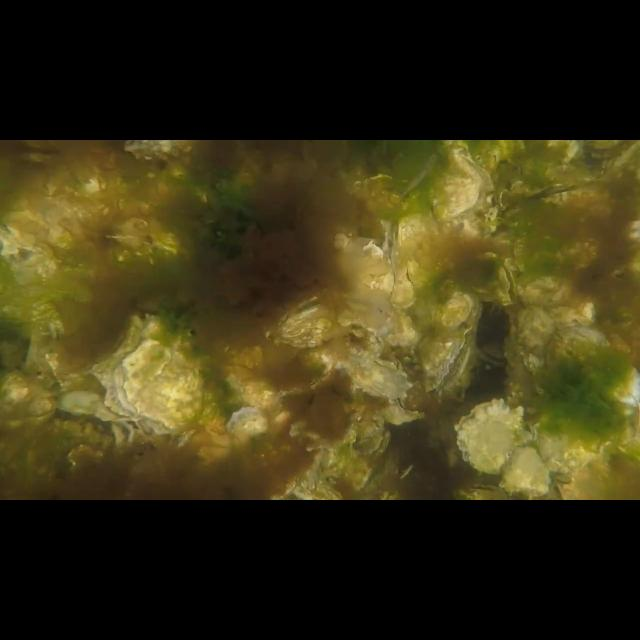Oyster-Closed: (545, 325, 640, 406), (528, 414, 610, 481), (430, 140, 492, 220), (514, 304, 562, 396), (400, 211, 450, 289), (0, 369, 58, 431), (339, 351, 413, 399), (498, 443, 552, 499), (389, 238, 417, 308), (56, 389, 114, 421)
Oyster-Open: (114, 339, 206, 435), (454, 398, 528, 474), (268, 294, 352, 344), (420, 322, 474, 392), (526, 176, 610, 206), (439, 286, 477, 330), (224, 404, 268, 440), (361, 415, 393, 459), (380, 396, 424, 426), (379, 228, 398, 296), (472, 338, 512, 369), (458, 484, 508, 501), (498, 264, 518, 304), (112, 419, 136, 446), (484, 206, 498, 230)
